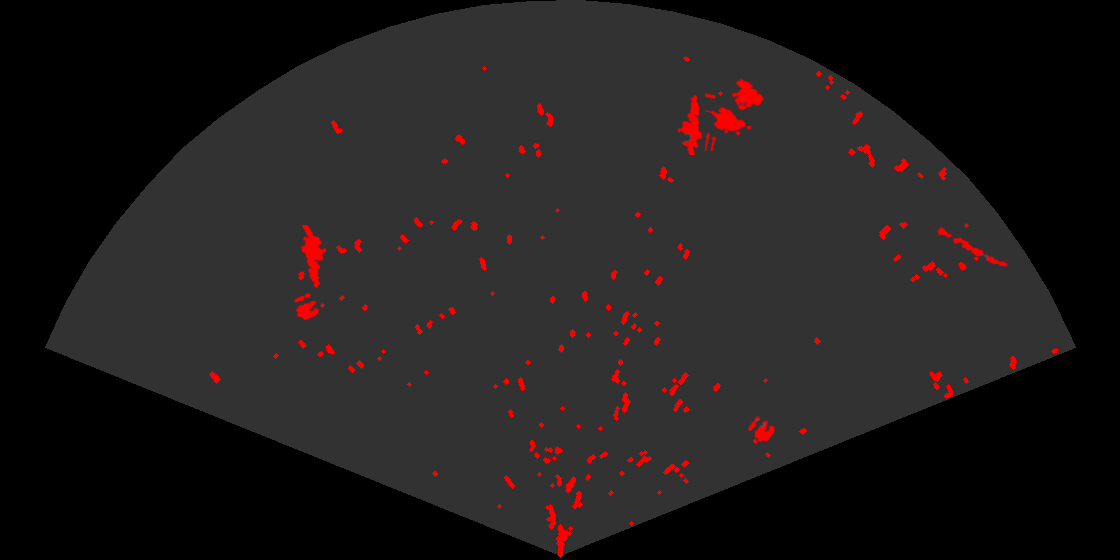ball: (746, 415, 777, 444), (293, 292, 321, 322)
cage: (705, 77, 766, 151)
chain: (928, 222, 1010, 268)
frogman: (299, 225, 328, 290), (675, 93, 704, 155)
